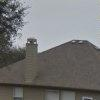Chimney: (18, 31, 41, 60)
